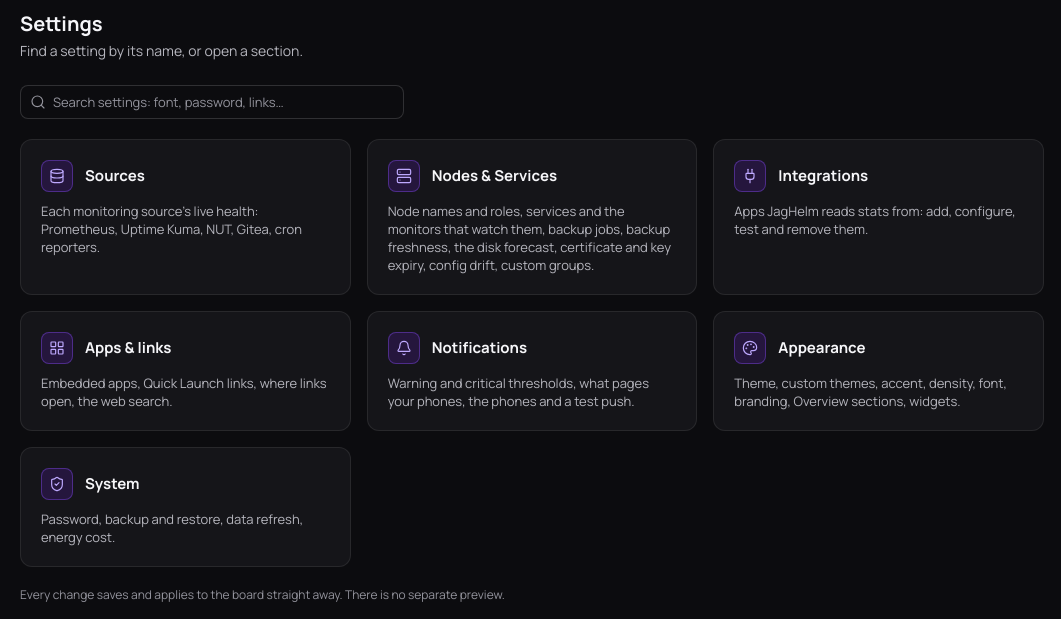
Test: the search finds a section by what it holds › “font” finds Appearance, by its Font family
Type "font" into the search field labelled "Search settings" at (212, 102), box 20,85 -> 404,119
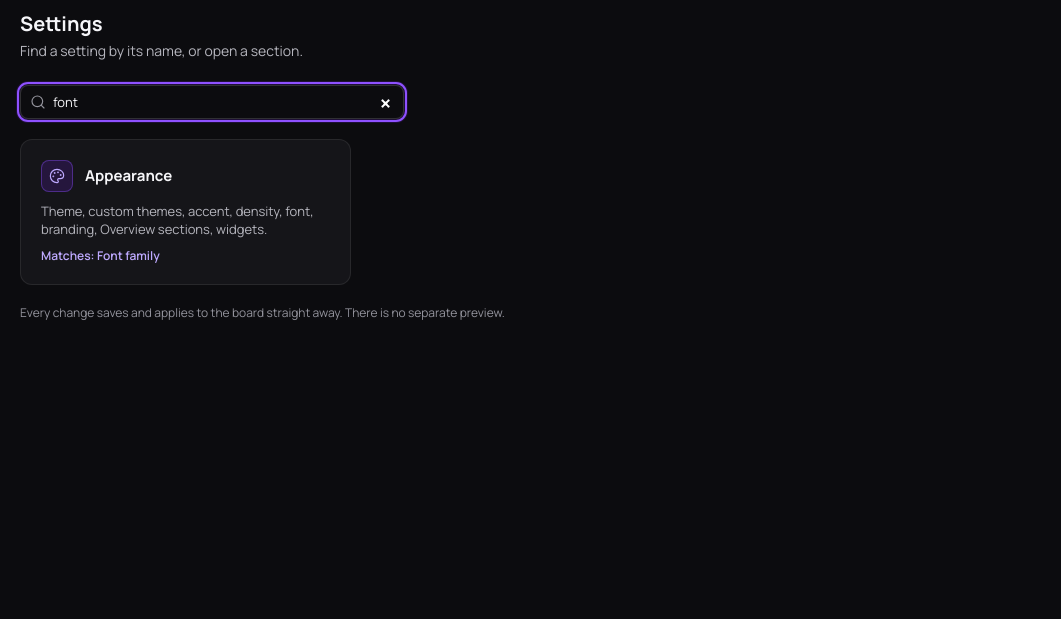
Expected: the text "Matches: Font family" is shown, 41,247 -> 160,264
